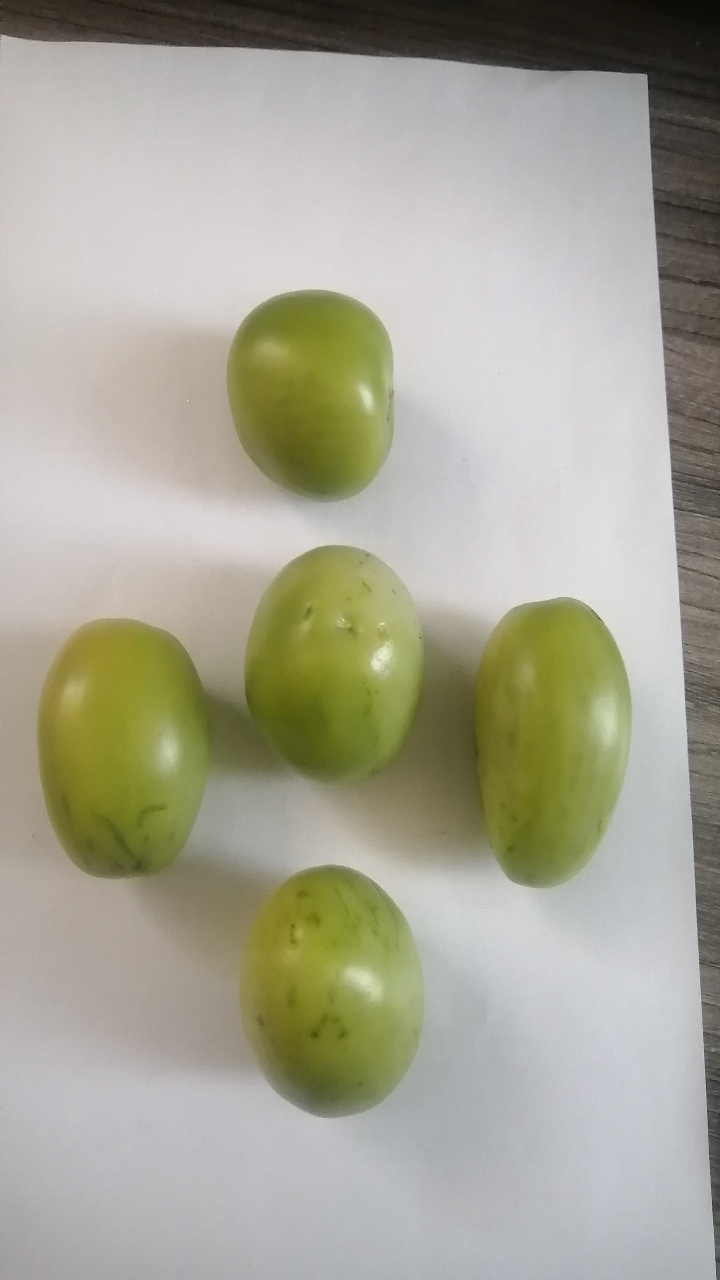tomateVerde: (195, 262, 441, 529), (232, 842, 437, 1140), (229, 528, 437, 820), (20, 600, 218, 903), (460, 574, 634, 908)
